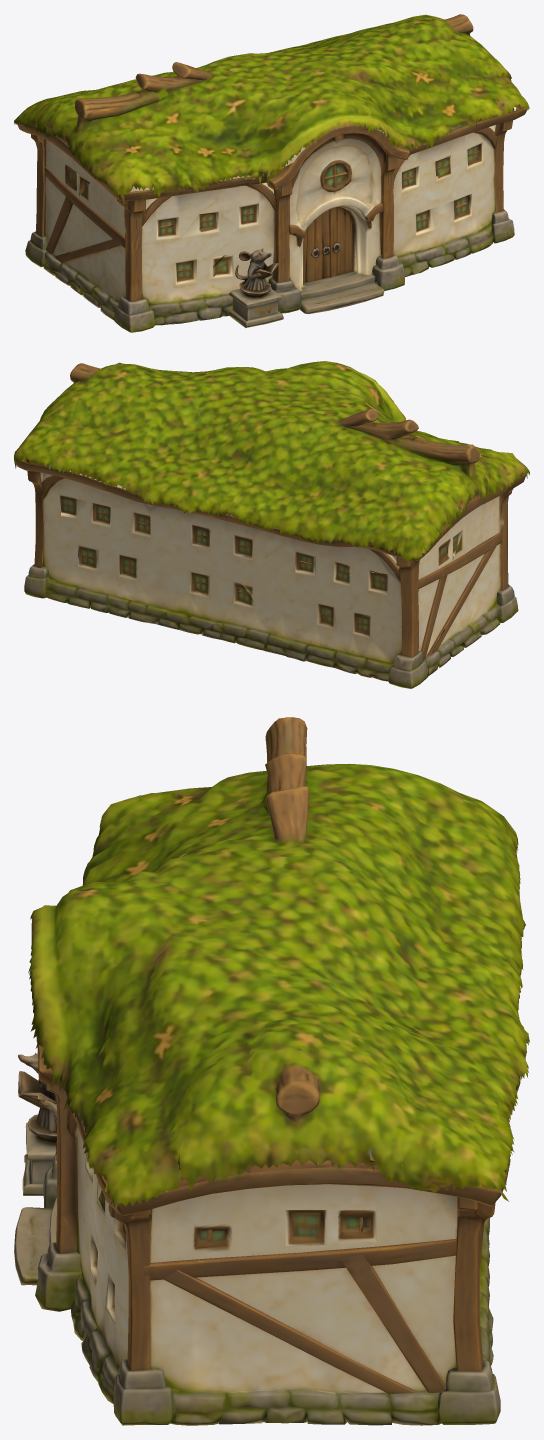
File: university.glb
The picture shows the model from 3 angles, top to bottom: view 1: azimuth 30°, elevation 25°; view 2: azimuth 150°, elevation 25°; view 3: azimuth 270°, elevation 25°; orthographic projection. The views are drawn at different scales.
Visible parts, largest first — view 1: geometry_0; view 2: geometry_0; view 3: geometry_0.
Part boxes in pixels (x1,y1,x2,y2): geometry_0: (14,14,529,332); geometry_0: (14,361,529,688); geometry_0: (14,717,529,1425).
Size of the model in its own units: 0.957 by 0.4604 by 0.561.
1 material, 1 textured.
